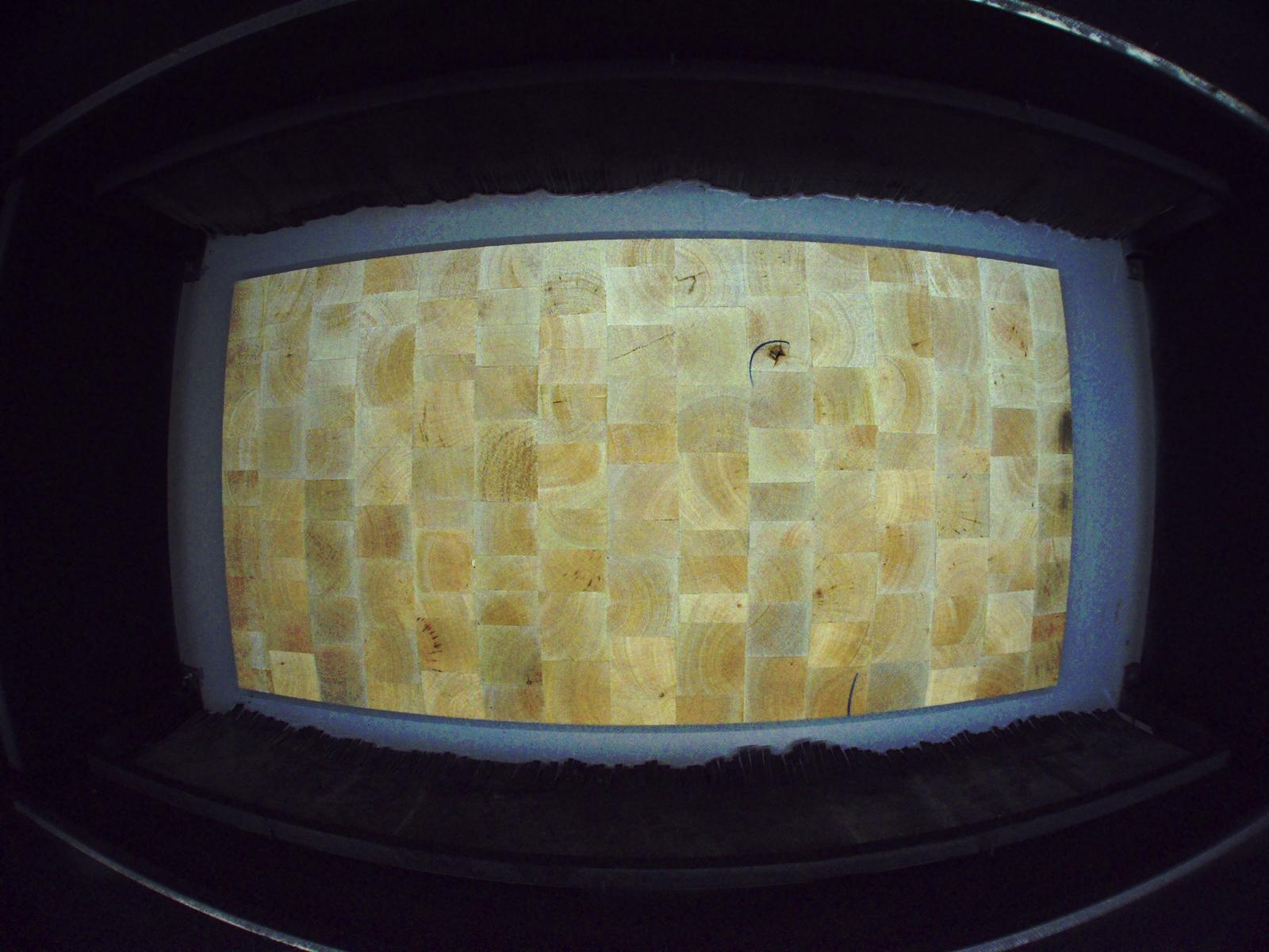nudillo: (766, 339, 792, 371)
